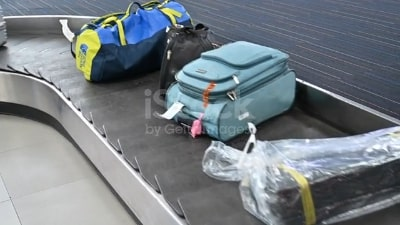baggage: (165, 41, 303, 142), (63, 2, 198, 79)
